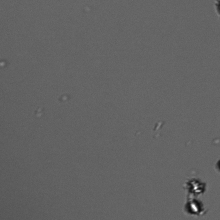Living Cell: (186, 178, 206, 195), (185, 199, 204, 215)
